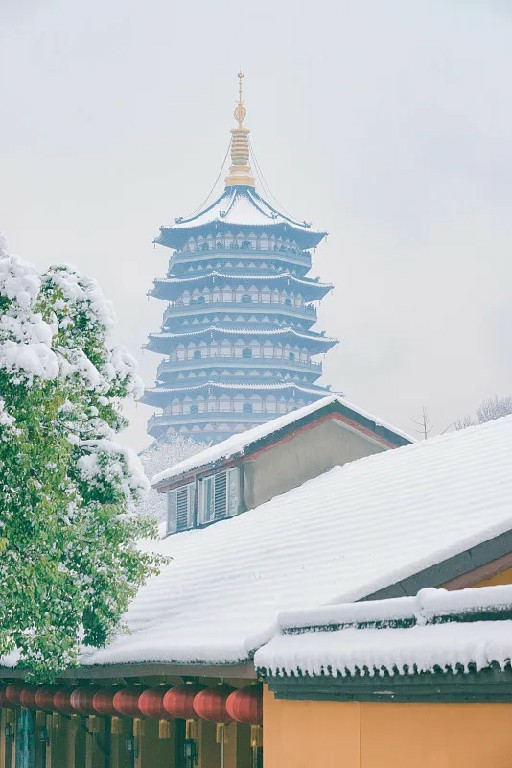Leifeng: (134, 61, 349, 443)
